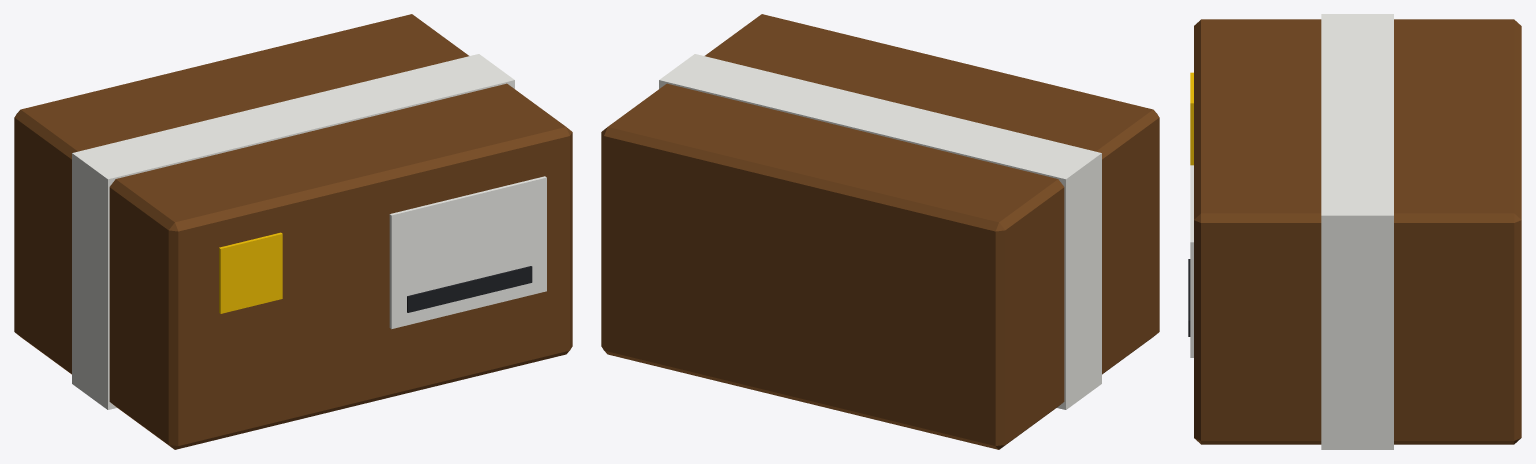
File: SM_Flot_Paquete.fbx
3 renders of one model, left to right at view 1: azimuth 30°, elevation 25°; view 2: azimuth 150°, elevation 25°; view 3: azimuth 270°, elevation 25°, orthographic.
Parts seen in each view (by area): view 1: SM_Flot_Paquete; view 2: SM_Flot_Paquete; view 3: SM_Flot_Paquete.
Part boxes in pixels (bbox=[...]): SM_Flot_Paquete: bbox=[14, 14, 572, 449]; SM_Flot_Paquete: bbox=[601, 14, 1159, 449]; SM_Flot_Paquete: bbox=[1188, 14, 1521, 449].
Size of the model in its own units: 0.262 by 0.142 by 0.183.
